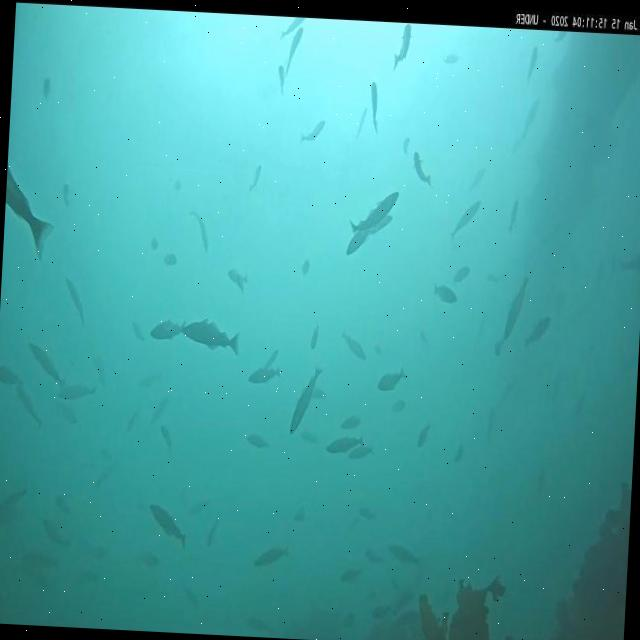fish: (3, 164, 58, 262), (288, 363, 324, 438), (348, 188, 399, 238), (181, 316, 241, 356), (502, 274, 532, 342), (27, 341, 64, 388), (148, 503, 188, 546), (450, 194, 482, 244), (64, 278, 88, 326), (392, 23, 414, 74), (40, 517, 72, 552), (346, 219, 376, 256), (186, 208, 210, 252), (150, 316, 187, 344), (520, 94, 542, 140), (327, 432, 364, 458), (286, 28, 306, 76), (254, 543, 288, 571), (362, 209, 393, 239), (376, 366, 406, 396), (386, 541, 422, 566), (58, 384, 98, 404), (340, 330, 366, 360), (528, 312, 552, 343), (412, 150, 432, 187), (248, 364, 280, 386), (432, 282, 458, 308), (368, 80, 380, 134), (302, 118, 326, 145), (348, 439, 375, 463), (280, 17, 306, 41), (526, 42, 540, 82), (416, 418, 434, 448), (0, 363, 23, 386), (225, 266, 251, 286), (159, 422, 174, 456), (508, 196, 521, 232), (248, 430, 271, 450), (452, 262, 471, 286), (62, 178, 74, 208), (250, 164, 263, 188), (441, 50, 459, 66), (276, 66, 286, 94), (310, 322, 320, 350), (402, 134, 412, 156)
